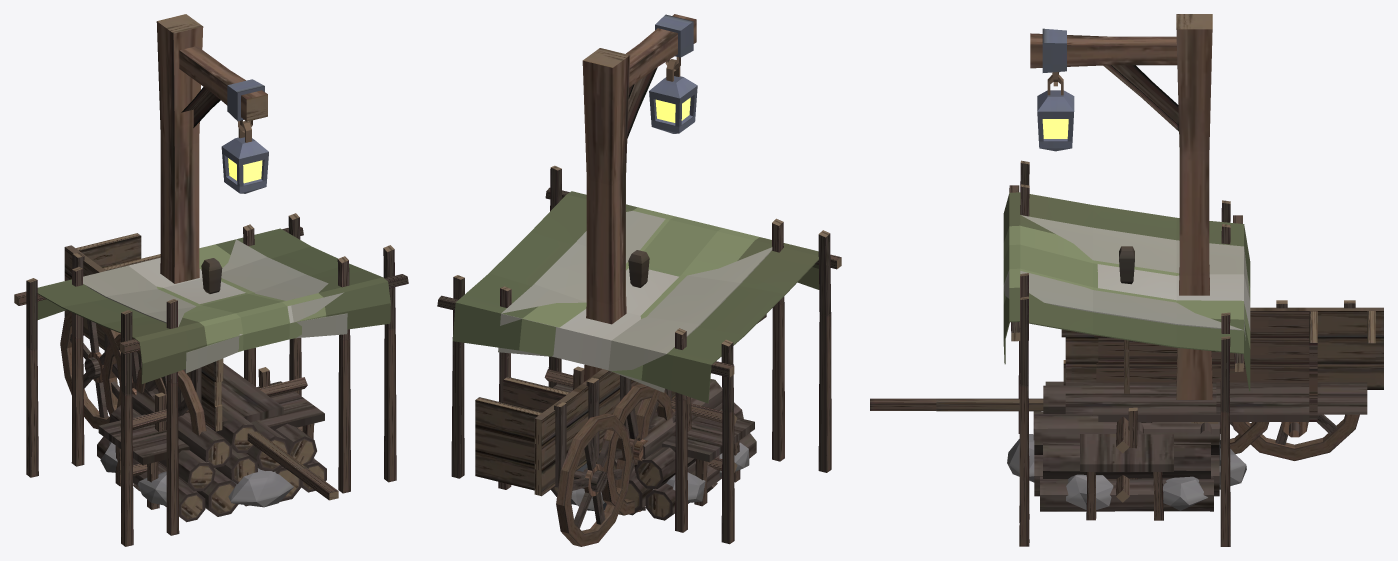
The model's file is props.glb.
3 views of the same model, side by side, from view 1: azimuth 30°, elevation 25°; view 2: azimuth 150°, elevation 25°; view 3: azimuth 270°, elevation 25° (orthographic). The views are drawn at different scales.
Visible parts, largest first — view 1: props_marketstall_B, props_marketstall_A, props_lamppost_01, props_cart_02, props_woodpile_01, props_marketTable, props_campfire_01, props_cart_01, props_fence_01, props_torch_01; view 2: props_marketstall_B, props_marketstall_A, props_lamppost_01, props_cart_02, props_cart_01, props_woodpile_01, props_marketTable, props_fence_01, props_campfire_01, props_torch_01; view 3: props_marketstall_B, props_lamppost_01, props_cart_02, props_marketstall_A, props_cart_01, props_woodpile_01, props_marketTable, props_campfire_01, props_fence_01, props_torch_01.
Boxes of the visible parts, <box> form: props_marketstall_B: <box>14,213,408,546</box>; props_marketstall_A: <box>71,224,350,535</box>; props_lamppost_01: <box>156,14,268,283</box>; props_cart_02: <box>60,233,338,500</box>; props_woodpile_01: <box>97,387,326,522</box>; props_marketTable: <box>98,381,324,509</box>; props_campfire_01: <box>100,441,314,507</box>; props_cart_01: <box>102,254,307,470</box>; props_fence_01: <box>119,367,307,476</box>; props_torch_01: <box>201,258,222,293</box>; props_marketstall_B: <box>437,165,841,544</box>; props_marketstall_A: <box>498,210,784,532</box>; props_lamppost_01: <box>577,14,697,510</box>; props_cart_02: <box>475,314,766,546</box>; props_cart_01: <box>503,369,673,515</box>; props_woodpile_01: <box>551,379,756,520</box>; props_marketTable: <box>553,383,754,506</box>; props_fence_01: <box>544,366,737,472</box>; props_campfire_01: <box>571,442,749,510</box>; props_torch_01: <box>628,250,649,287</box>; props_marketstall_B: <box>1003,160,1250,546</box>; props_lamppost_01: <box>1030,14,1220,489</box>; props_cart_02: <box>870,300,1383,460</box>; props_marketstall_A: <box>1003,184,1250,522</box>; props_cart_01: <box>936,300,1317,453</box>; props_woodpile_01: <box>1033,381,1220,511</box>; props_marketTable: <box>1080,434,1173,520</box>; props_campfire_01: <box>1007,434,1246,510</box>; props_fence_01: <box>1116,407,1137,502</box>; props_torch_01: <box>1119,246,1134,393</box>.
Bounding box in the file's own units: 3.14 × 4.5 × 4.6.
Materials: 2 (1 with a texture image).
